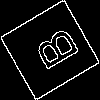B: (25, 25, 81, 77)
